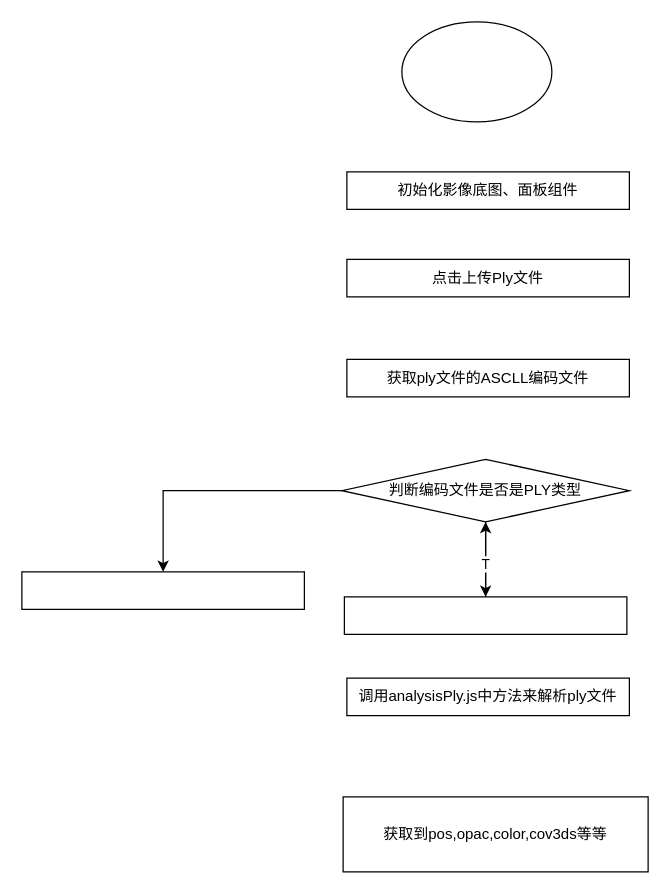
This 670x894 diagram has some shape labels left out. The shapes that lost their labels are listed below. From the top down, each one's box as (x1, y1, x2, y2) in pixels, then its label:
(401, 21, 552, 122): 进入系统
(21, 571, 304, 609): 报错
(343, 596, 627, 634): 触发analysisPly的webwork
